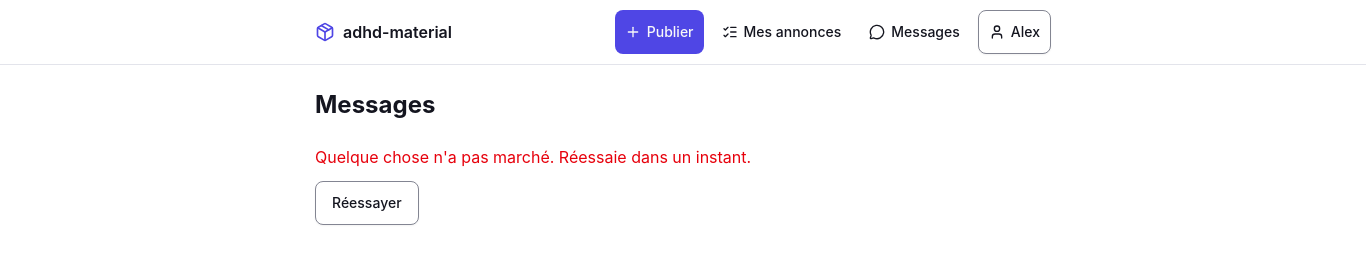
Test: liste des conversations › erreur : message et Réessayer
This screenshot has width=1366, height=257.
Expected: the message shows "Quelque chose n'a pas marché", [315, 147, 751, 167]
Click the button "Réessayer": {"x": 367, "y": 203} [315, 181, 419, 225]
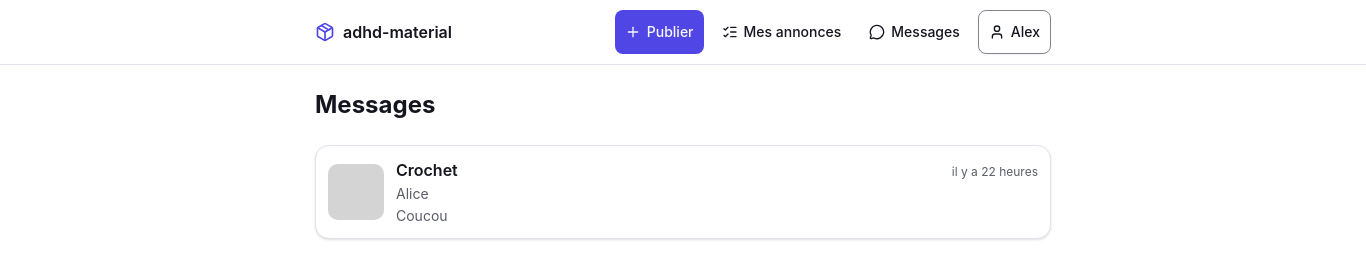
Now the text "Coucou" is shown, box [396, 207, 448, 224]
